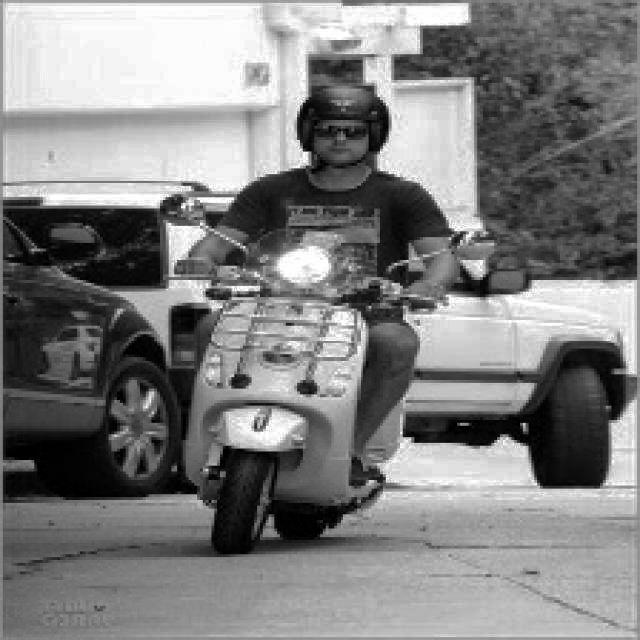Bike: (171, 235, 378, 543)
